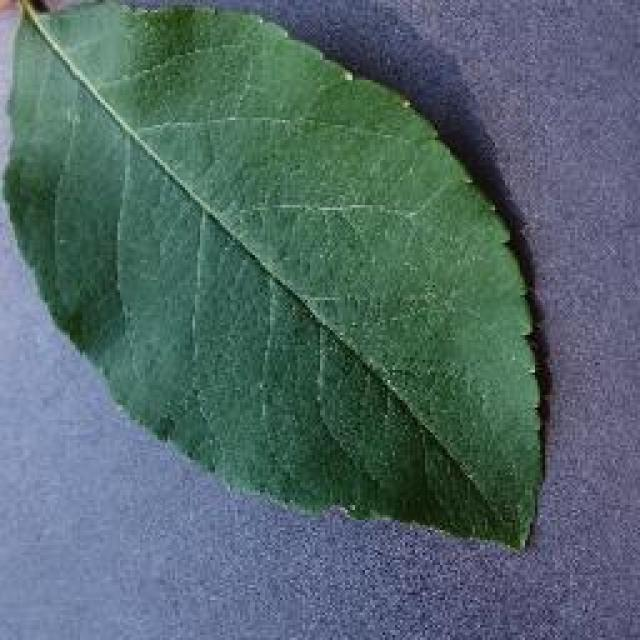apple healthy: (0, 0, 550, 552)
